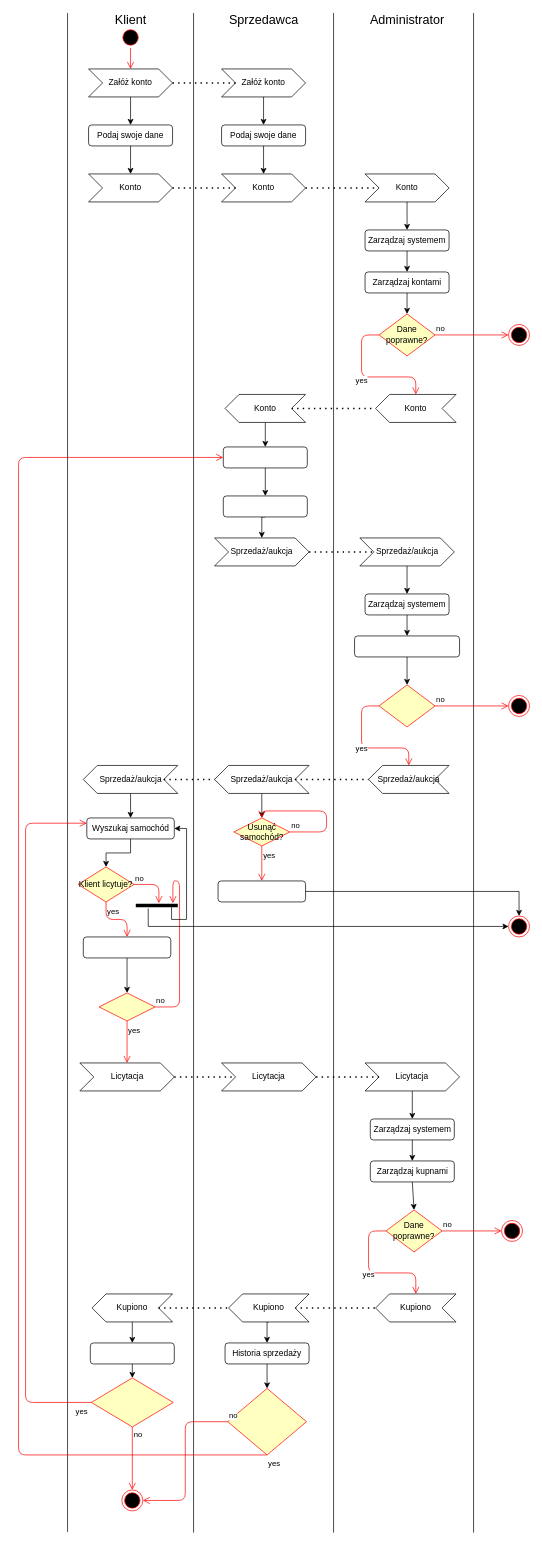
Some shapes in this 542 by 1546 pixel diagram are drawn without their labels. The shapes that lost their labels are listed below. From the top down, each one's centre as x and y in pixels, then its label:
At [265,457]: "Wstaw samochód".
At [265,506]: "Opłać samochód".
At [407,646]: "Zarządzaj sprzedażami".
At [406,705]: "Opłata umieszczona?".
At [261,891]: "Usuń samochód".
At [127,947]: "Licytuj".
At [126,1006]: "Wygrał?".
At [132,1353]: "Historia kupna".
At [132,1402]: "Klient chce szukać dalej samochodu?".
At [266,1421]: "Sprzedawca chce wystawić kolejny samochód?".
